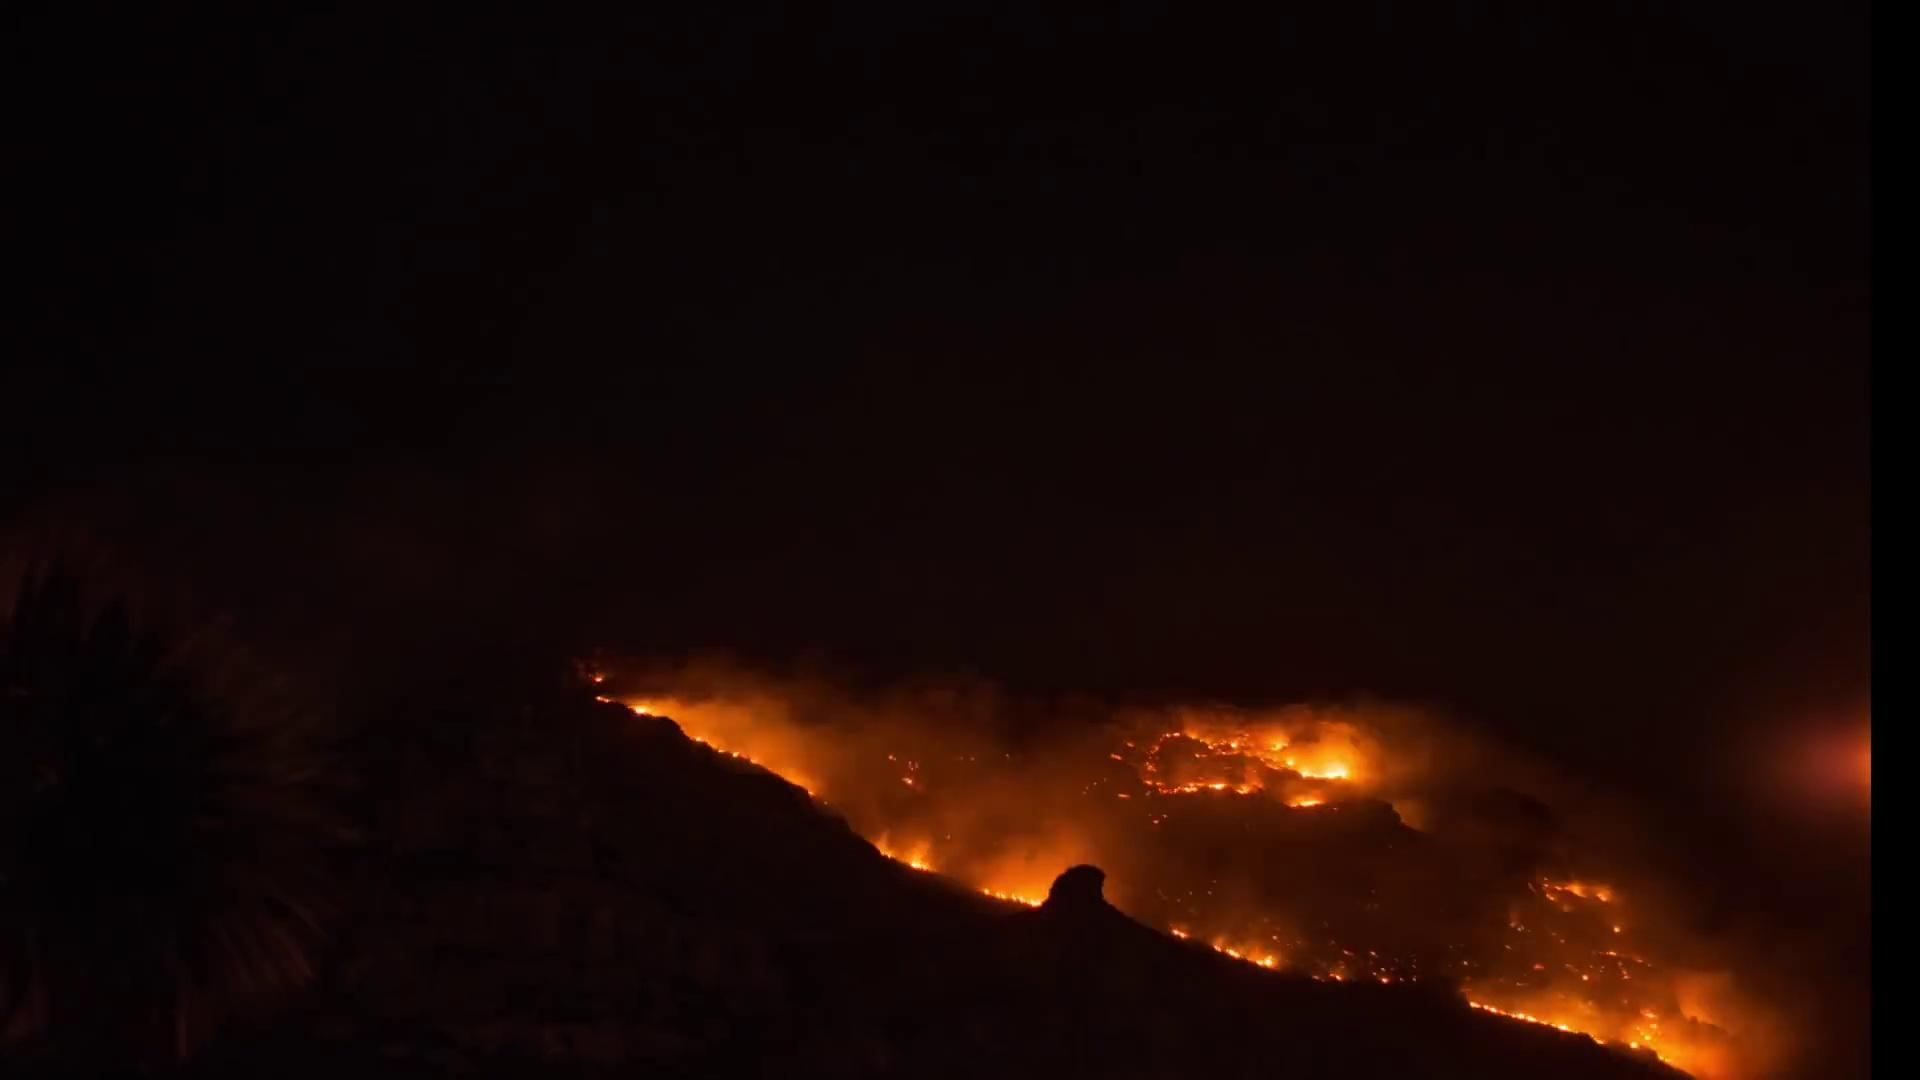fire: (1167, 723, 1365, 807), (1635, 1002, 1750, 1077)
